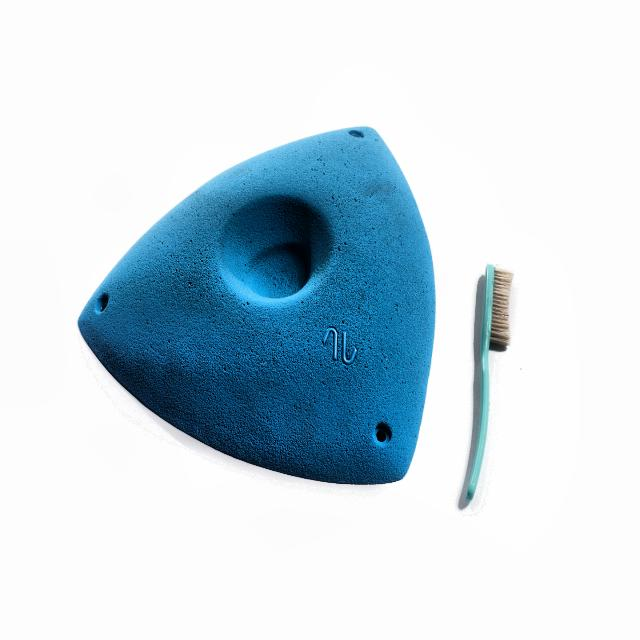Hold: (72, 119, 439, 489)
